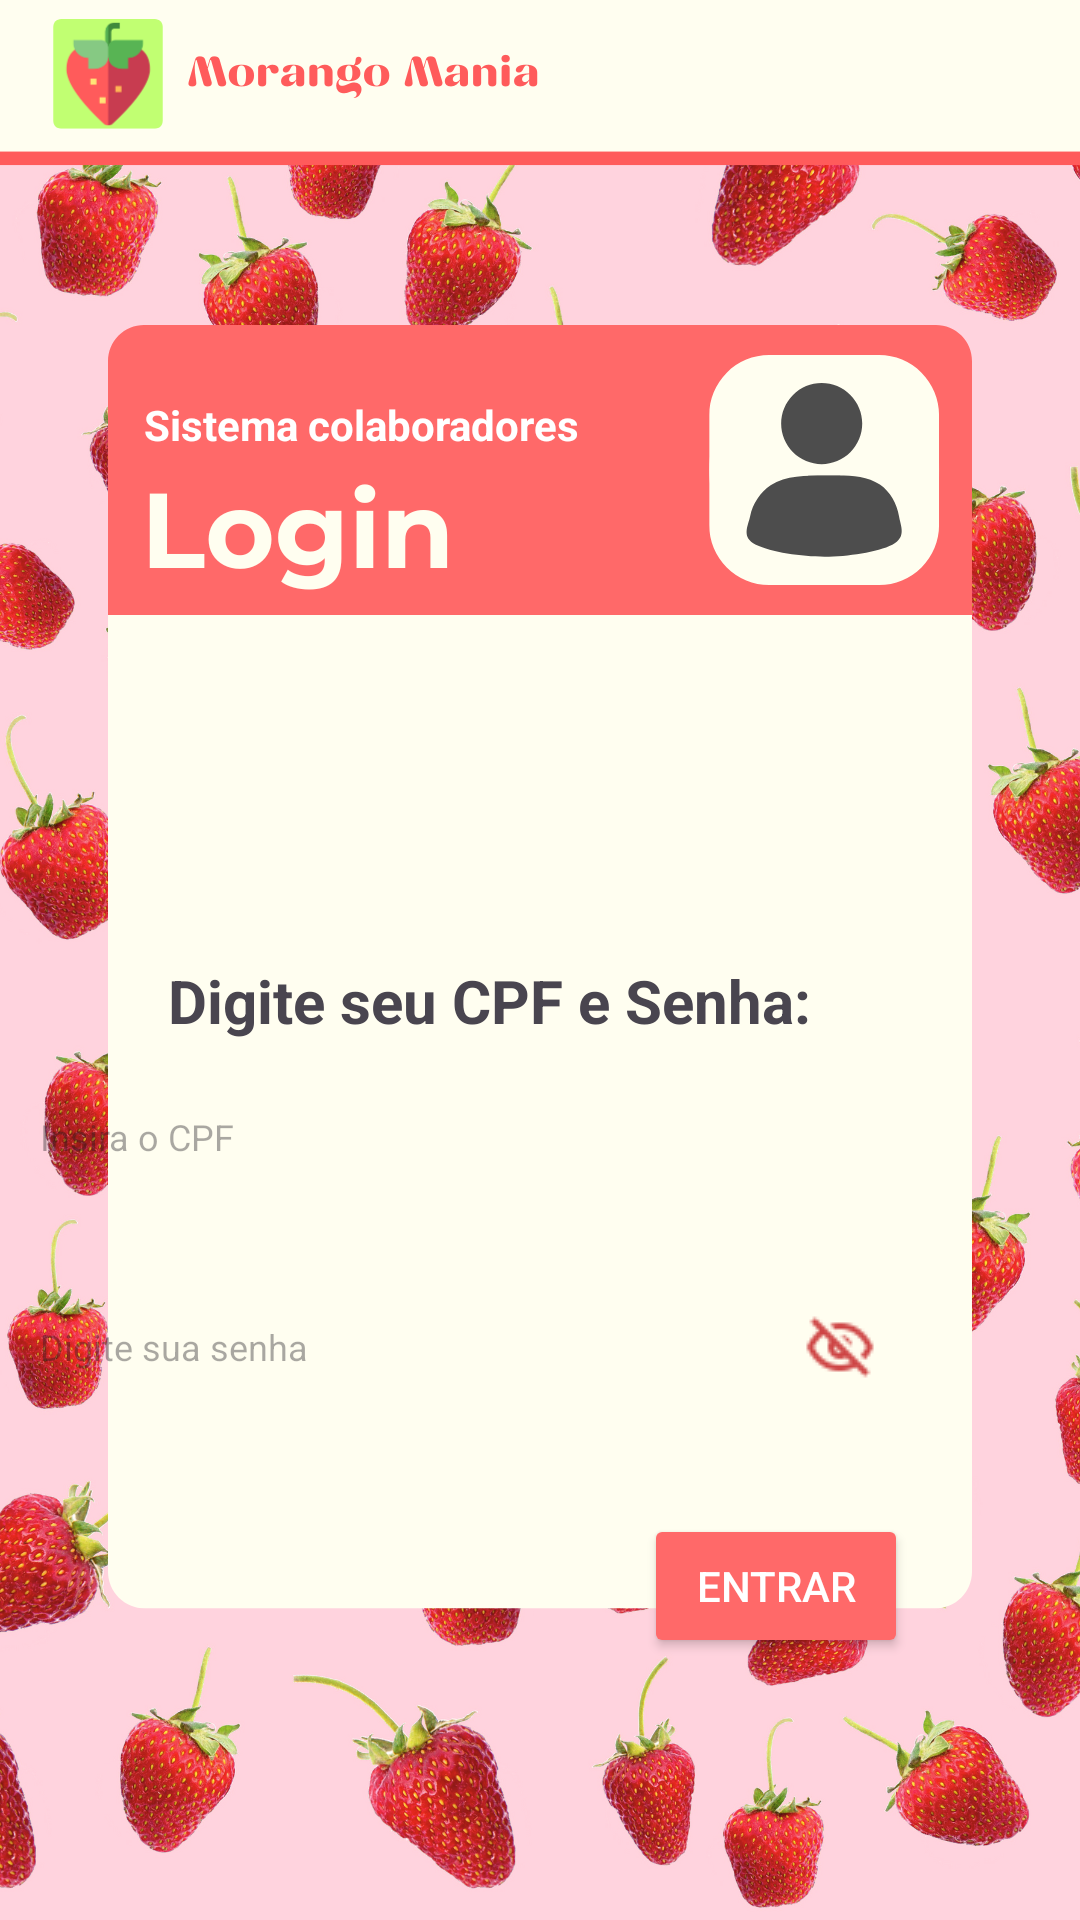

Where icons sit on this 1080×1920 app screen, as (x1, y1, x2, y2):
invisivel: (806, 1316, 874, 1378)
